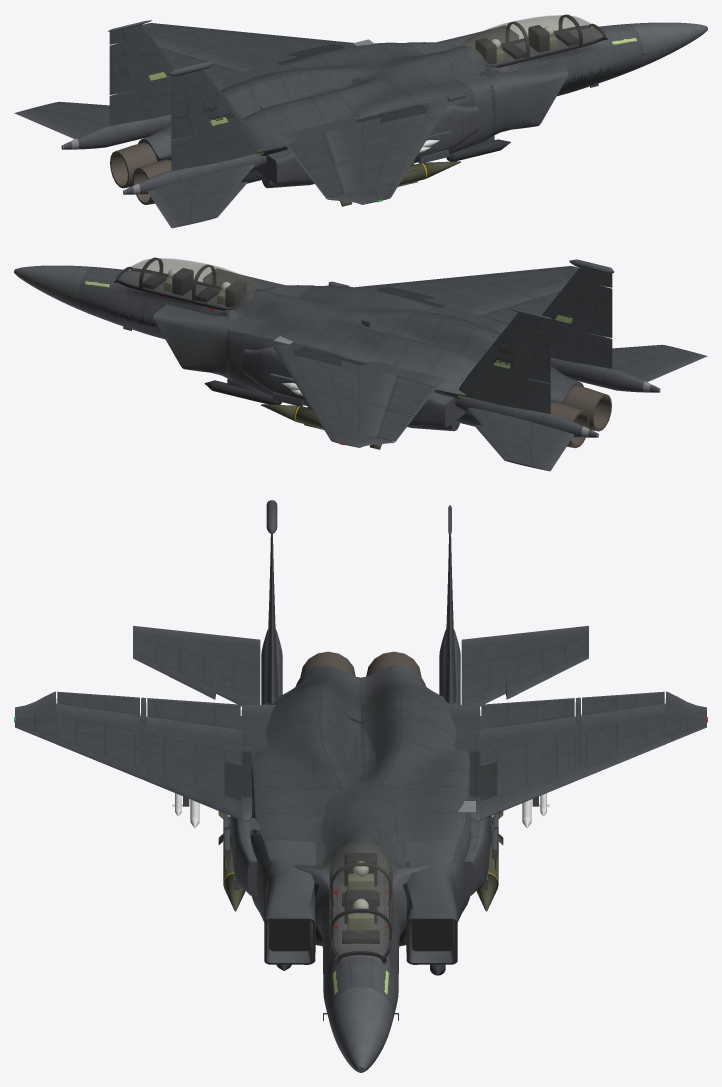
Rendered from zf25_fly1.glb.
3 views of the same model, one above another, from view 1: azimuth 30°, elevation 25°; view 2: azimuth 150°, elevation 25°; view 3: azimuth 270°, elevation 25° (orthographic). The views are drawn at different scales.
Parts seen in each view (by area): view 1: zf25, store_gbu31_r; view 2: zf25, store_gbu31_l; view 3: zf25.
Boxes of the visible parts, x1,y1,x2,y2 form: zf25: (14, 14, 707, 228); store_gbu31_r: (340, 161, 460, 206); zf25: (14, 257, 707, 471); store_gbu31_l: (261, 404, 381, 449); zf25: (14, 500, 707, 1072).
Bounding box in the file's own units: 19.35 × 5.32 × 13.09.
Materials: 34 (18 with a texture image).
